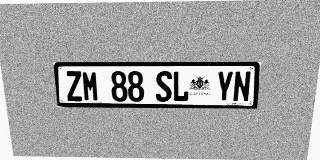8: (110, 71, 128, 102), (127, 71, 144, 102)
L: (172, 71, 189, 102)
M: (82, 71, 99, 101)
N: (232, 71, 251, 102)
S: (156, 71, 172, 102)
Y: (215, 71, 234, 102)
Z: (65, 71, 83, 101)
